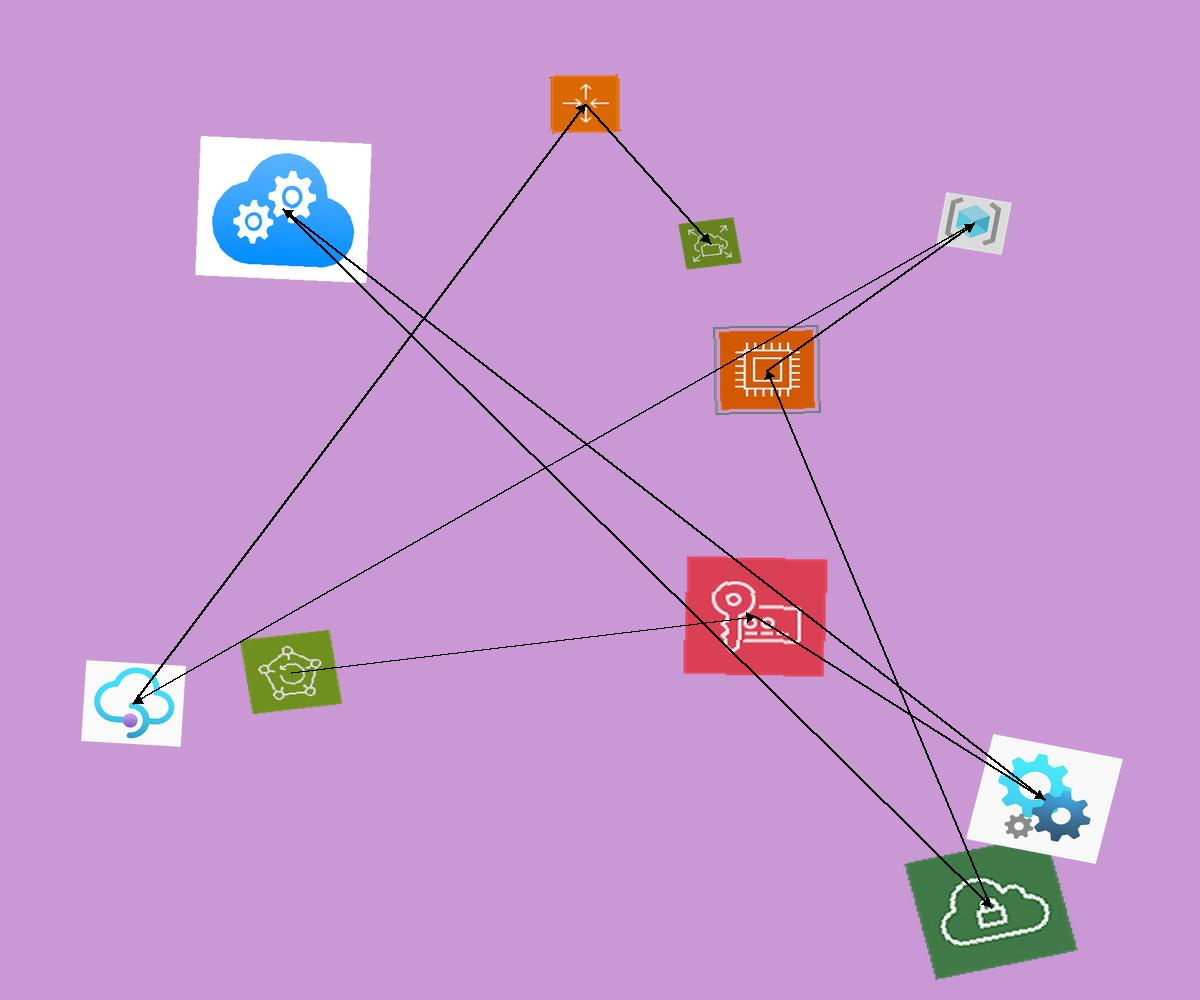AWS-Backup: (239, 629, 343, 715)
AWS-Category_Compute: (713, 325, 821, 415)
AWS-EFS: (678, 217, 742, 270)
AWS-Key-Management-Service: (682, 555, 829, 678)
AWS-Private_vpc: (903, 834, 1079, 980)
AWS-Scaling-group: (549, 74, 621, 134)
Azure_api: (966, 734, 1123, 864)
Azure_api_gateway: (81, 660, 186, 747)
Azure_cloud_services: (195, 136, 372, 283)
Azure_resource_group: (936, 192, 1012, 255)
